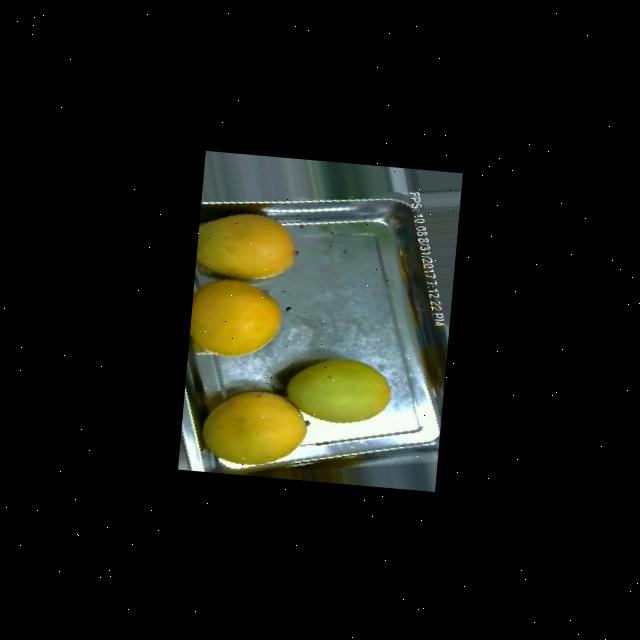Mango: (200, 386, 312, 470), (284, 353, 394, 428), (189, 276, 285, 360), (196, 208, 300, 284)
